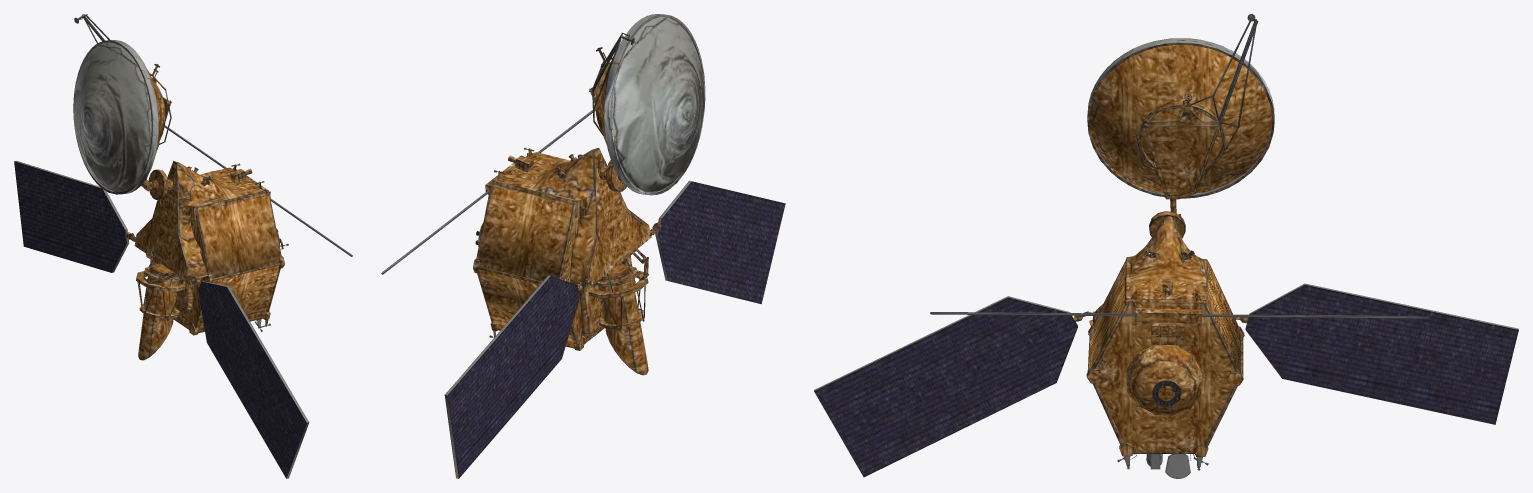
File: mro.glb
3 renders of one model, left to right at view 1: azimuth 30°, elevation 25°; view 2: azimuth 150°, elevation 25°; view 3: azimuth 270°, elevation 25°, orthographic. The views are drawn at different scales.
Parts seen in each view (by area): view 1: mro_proxy7, mro_proxy5, mro_proxy3, mro_proxy6, mro_proxy2; view 2: mro_proxy7, mro_proxy5, mro_proxy3, mro_proxy6, mro_proxy2; view 3: mro_proxy7, mro_proxy6, mro_proxy5.
Part boxes in pixels (left/top/right/bottom): mro_proxy7: left=14, top=14, right=352, bottom=478; mro_proxy5: left=134, top=161, right=213, bottom=335; mro_proxy3: left=129, top=173, right=193, bottom=360; mro_proxy6: left=230, top=163, right=284, bottom=328; mro_proxy2: left=137, top=259, right=181, bottom=320; mro_proxy7: left=381, top=14, right=785, bottom=478; mro_proxy5: left=477, top=148, right=660, bottom=350; mro_proxy3: left=581, top=160, right=658, bottom=375; mro_proxy6: left=473, top=147, right=534, bottom=337; mro_proxy2: left=601, top=249, right=648, bottom=330; mro_proxy7: left=814, top=14, right=1518, bottom=477; mro_proxy6: left=1086, top=281, right=1243, bottom=470; mro_proxy5: left=1082, top=217, right=1244, bottom=478.
Bounding box in the file's own units: 32.76 × 61.01 × 89.74.
2 materials, 2 textured.
